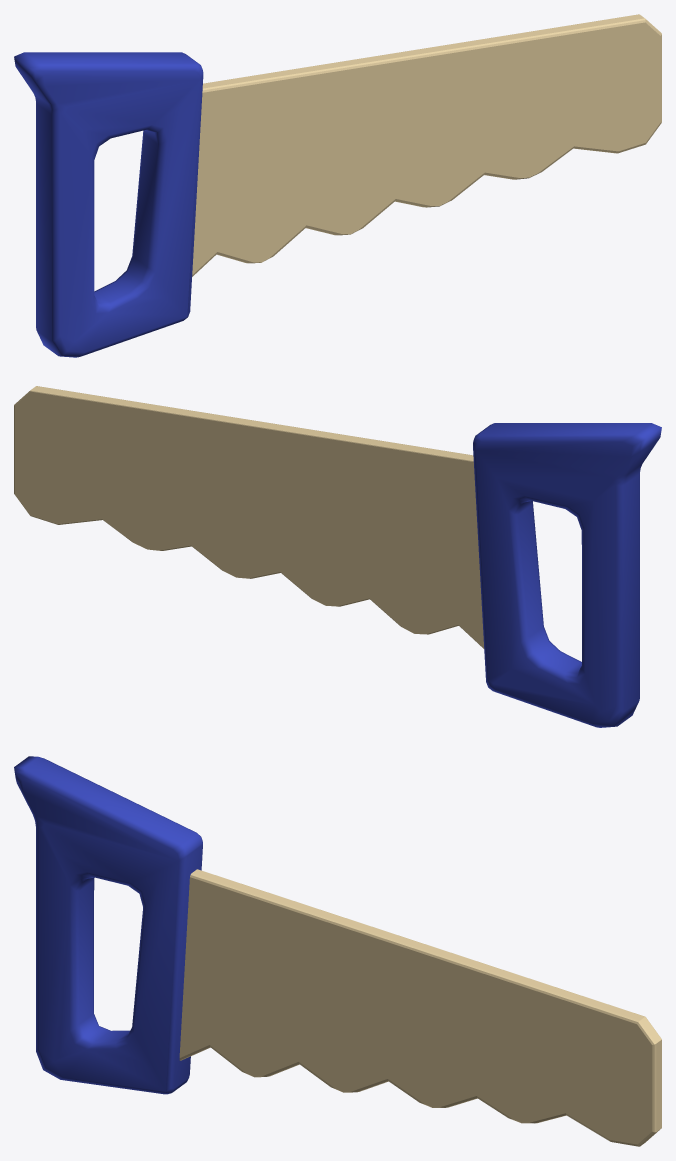
Rendered from woodensaw_model_(goodversion).fbx.
3 views of the same model, one above another, from view 1: azimuth 30°, elevation 25°; view 2: azimuth 150°, elevation 25°; view 3: azimuth 330°, elevation 25° (orthographic).
Visible parts, largest first — view 1: Plane.001; view 2: Plane.001; view 3: Plane.001.
Boxes of the visible parts, <box> form: Plane.001: <box>14,14,661,357</box>; Plane.001: <box>14,386,661,727</box>; Plane.001: <box>14,756,661,1146</box>.
Bounding box in the file's own units: 76.69 × 34.83 × 4.4.
